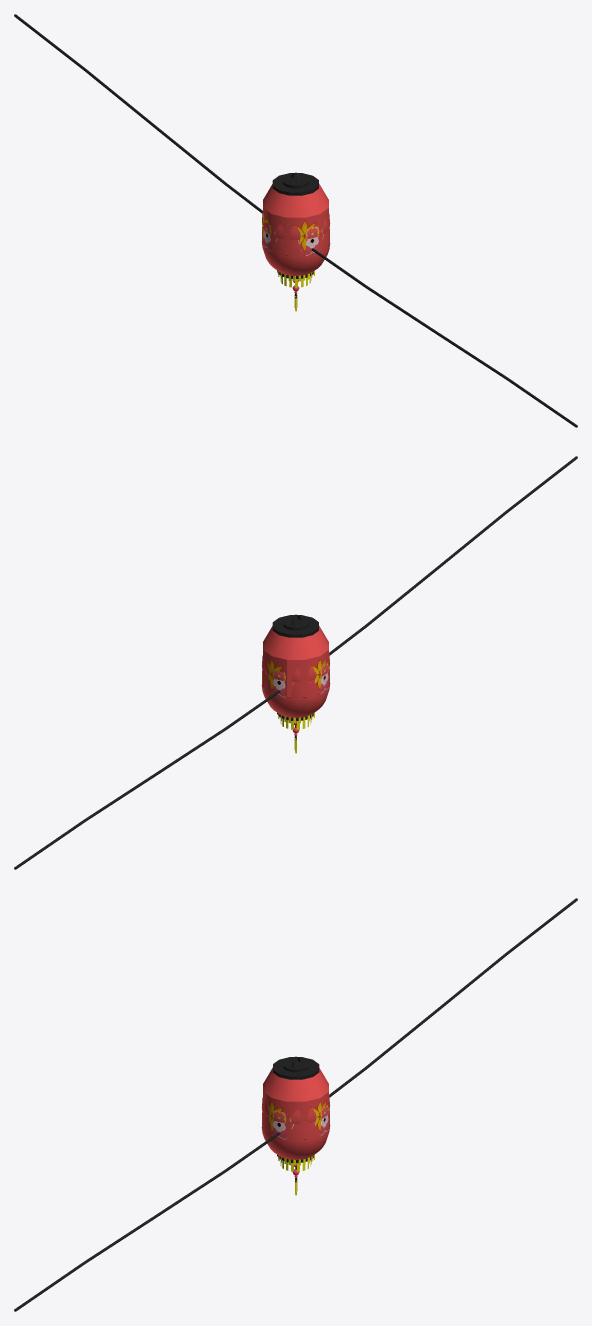
File: Lanterns.fbx
3 views of the same model, one above another, from view 1: azimuth 30°, elevation 25°; view 2: azimuth 150°, elevation 25°; view 3: azimuth 330°, elevation 25° (orthographic).
Visible parts, largest first — view 1: SM_Lantern3, SM_Lantern1, SM_LanternCable, SM_Lantern2; view 2: SM_Lantern3, SM_Lantern1, SM_LanternCable; view 3: SM_Lantern3, SM_Lantern1, SM_LanternCable, SM_Lantern2.
Boxes of the visible parts, <box> form: SM_Lantern3: <box>263,172,328,307</box>; SM_Lantern1: <box>261,211,330,311</box>; SM_LanternCable: <box>14,14,577,427</box>; SM_Lantern2: <box>262,215,330,240</box>; SM_Lantern3: <box>263,614,328,750</box>; SM_Lantern1: <box>261,653,330,753</box>; SM_LanternCable: <box>14,456,577,869</box>; SM_Lantern3: <box>263,1056,328,1191</box>; SM_Lantern1: <box>261,1095,330,1195</box>; SM_LanternCable: <box>14,898,577,1311</box>; SM_Lantern2: <box>261,1098,330,1124</box>.
Bounding box in the file's own units: 71.84 × 163 × 1200.
